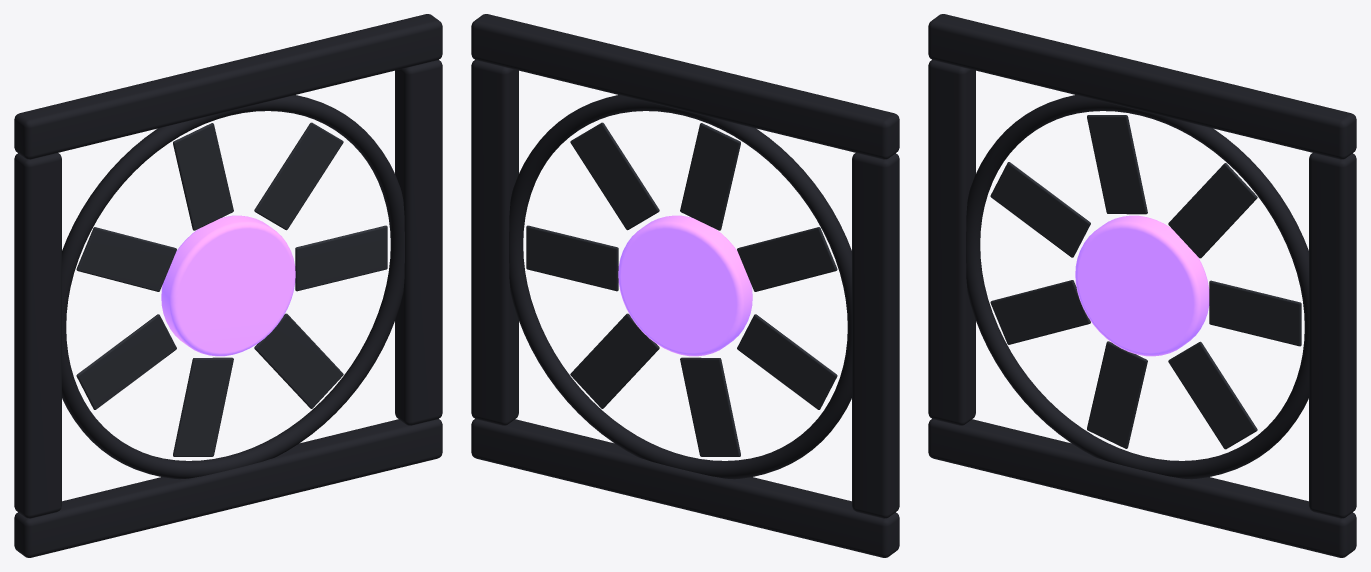
The picture shows the model from 3 angles, left to right: view 1: azimuth 30°, elevation 25°; view 2: azimuth 150°, elevation 25°; view 3: azimuth 330°, elevation 25°; orthographic projection.
Parts seen in each view (by area): view 1: part_059; view 2: part_059; view 3: part_059.
Boxes of the visible parts, <box> form: part_059: <box>14,14,442,557</box>; part_059: <box>471,14,899,557</box>; part_059: <box>928,14,1356,557</box>.
Bounding box in the file's own units: 0.66 × 0.66 × 0.04.
